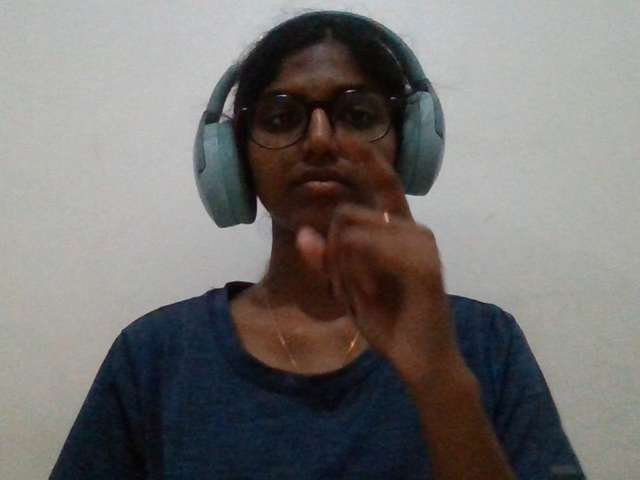You: (259, 104, 491, 435)
